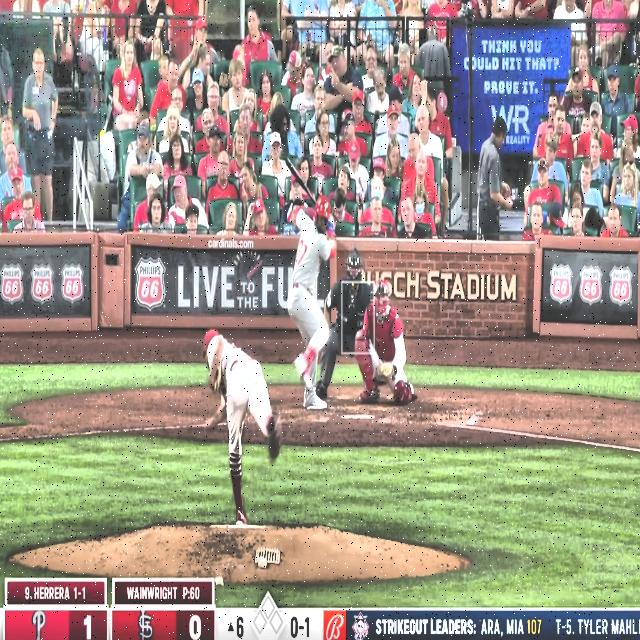baseball: (328, 239, 336, 250)
